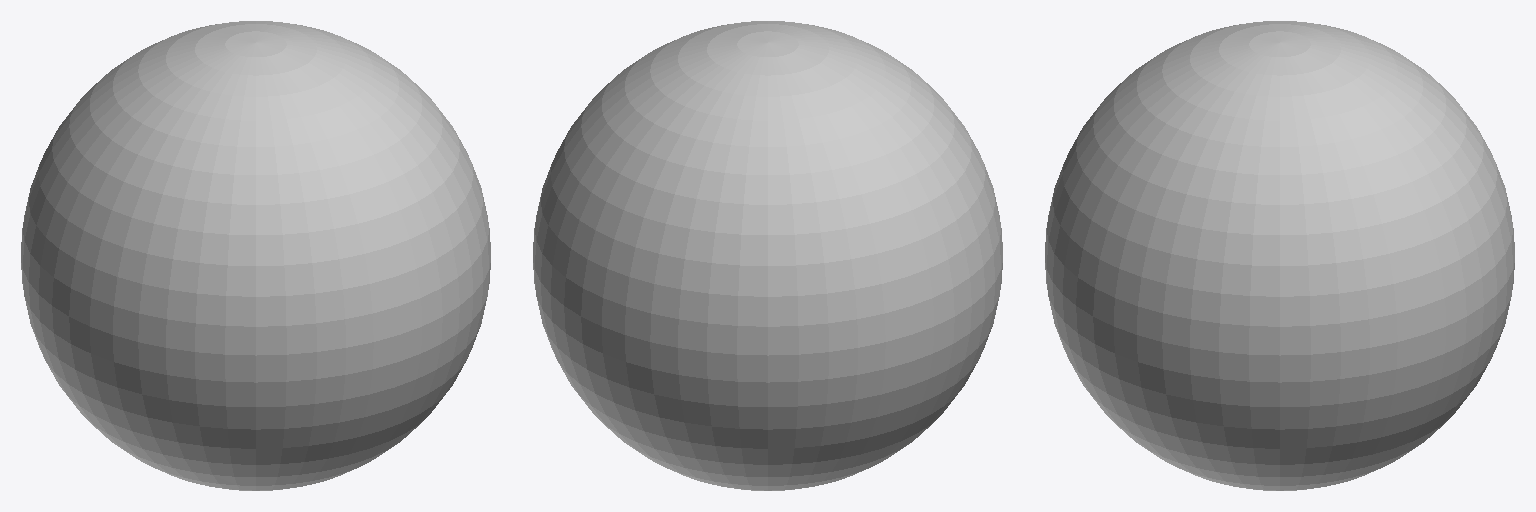
Rendered from gem_type_2.obj.
3 views of the same model, side by side, from view 1: azimuth 30°, elevation 25°; view 2: azimuth 150°, elevation 25°; view 3: azimuth 270°, elevation 25° (orthographic).
Visible parts, largest first — view 1: gem_type_2; view 2: gem_type_2; view 3: gem_type_2.
Part boxes in pixels (x1,y1,x2,y2): gem_type_2: (21,21,490,490); gem_type_2: (533,21,1002,490); gem_type_2: (1045,21,1514,490).
Bounding box in the file's own units: 1 × 1 × 1.